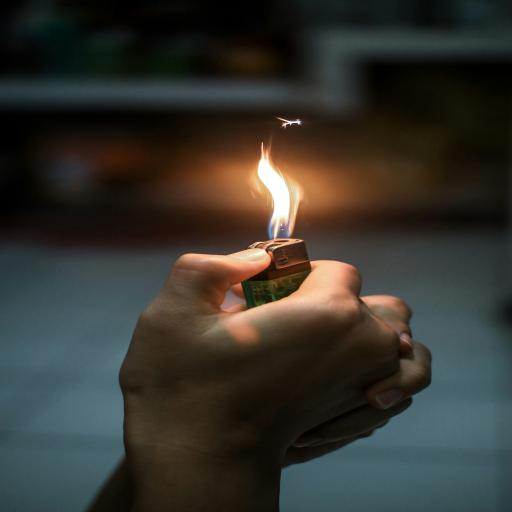fire: (241, 125, 324, 225)
lighter: (230, 118, 334, 319)
